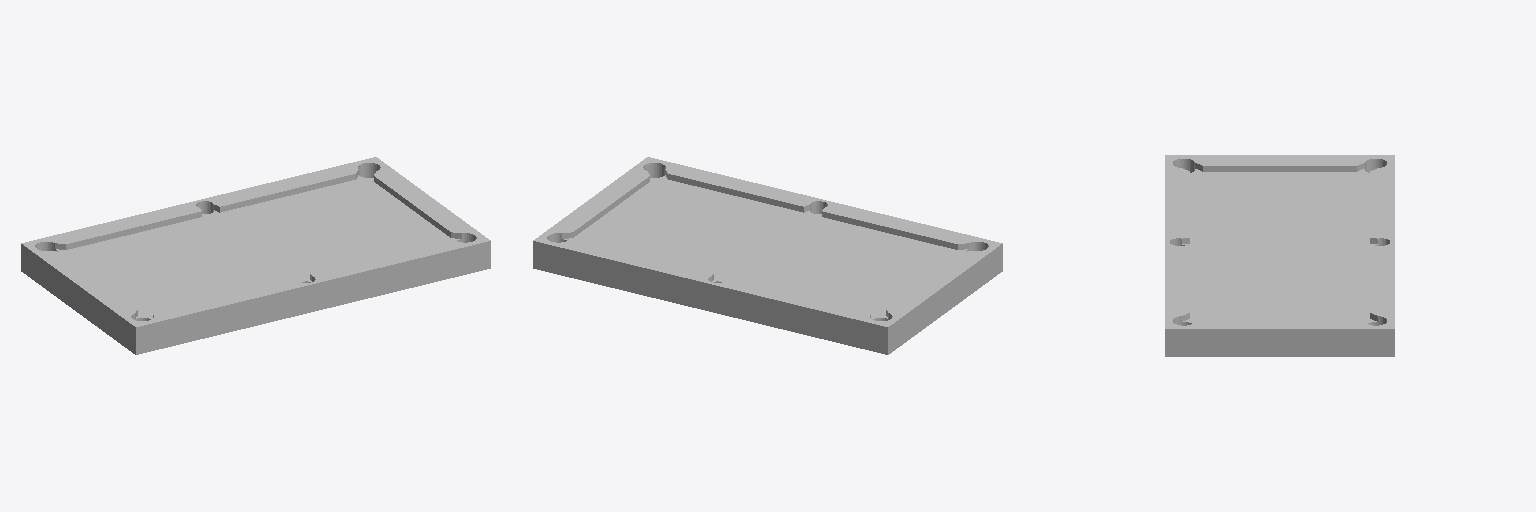
File: Body1.obj
3 renders of one model, left to right at view 1: azimuth 30°, elevation 25°; view 2: azimuth 150°, elevation 25°; view 3: azimuth 270°, elevation 25°, orthographic.
Visible parts, largest first — view 1: Body1; view 2: Body1; view 3: Body1.
Boxes of the visible parts, x1=… form: Body1: x1=21, y1=157, x2=490, y2=354; Body1: x1=533, y1=157, x2=1002, y2=354; Body1: x1=1165, y1=155, x2=1394, y2=356.
Bounding box in the file's own units: 2.54 × 0.19 × 1.42.